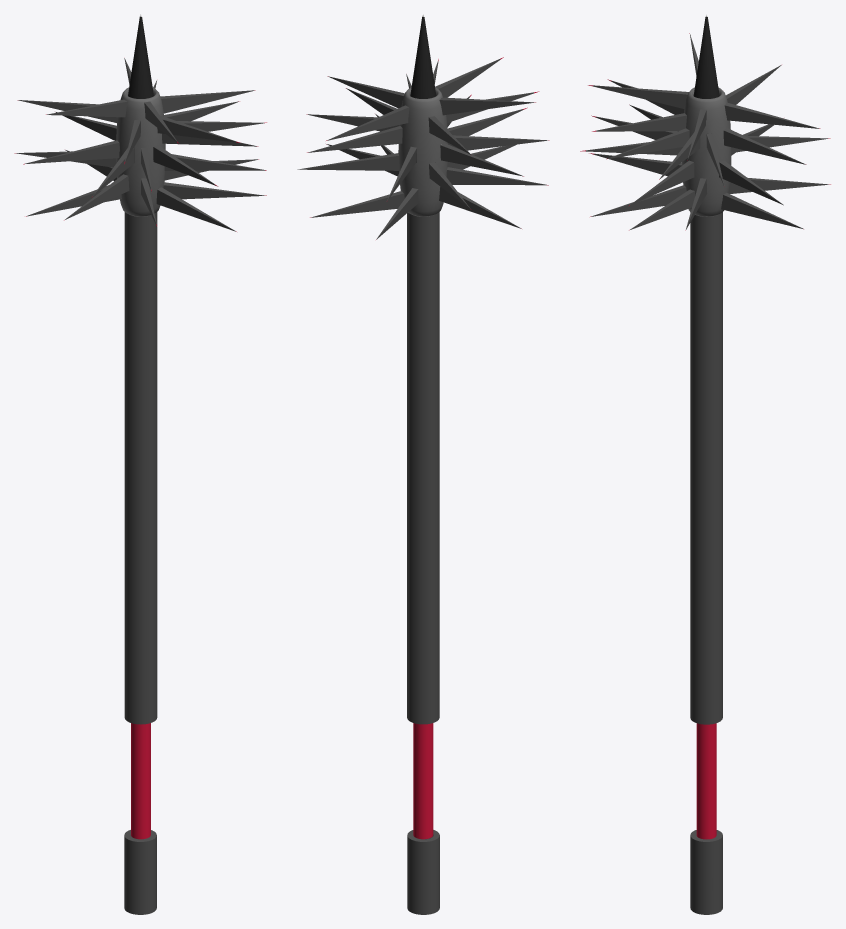
3 views of the same model, side by side, from view 1: azimuth 30°, elevation 25°; view 2: azimuth 150°, elevation 25°; view 3: azimuth 270°, elevation 25° (orthographic).
Visible parts, largest first — view 1: Component#4_001, Component#2_010, Component#2_002, Component#2_011, Component#2_013, Component#2_012, Component#2_009, Component#2_007, Component#3_002, Component#3_003, Component#2_008, Component#2_017 (+4 smaller); view 2: Component#4_001, Component#2_009, Component#2_001, Component#2_012, Component#2_020, Component#2_006, Component#2_010, Component#2_005, Component#2_017, Component#2_002, Component#3_004, Component#3_006 (+1 smaller); view 3: Component#4_001, Component#3_006, Component#3_002, Component#2_006, Component#2_001, Component#2_020, Component#2_013, Component#2_008, Component#2_007, Component#2_018, Component#3_005, Component#2_011 (+1 smaller).
Boxes of the visible parts, left/top/right/bottom form: Component#4_001: left=116, top=14, right=165, bottom=914; Component#2_010: left=23, top=140, right=119, bottom=164; Component#2_002: left=160, top=90, right=255, bottom=113; Component#2_011: left=163, top=182, right=266, bottom=199; Component#2_013: left=156, top=187, right=236, bottom=231; Component#2_012: left=46, top=99, right=127, bottom=117; Component#2_009: left=64, top=174, right=129, bottom=220; Component#2_007: left=164, top=154, right=266, bottom=170; Component#3_002: left=157, top=115, right=240, bottom=142; Component#3_003: left=153, top=145, right=218, bottom=186; Component#2_008: left=162, top=133, right=258, bottom=146; Component#2_017: left=26, top=185, right=121, bottom=216; Component#4_001: left=297, top=14, right=447, bottom=914; Component#2_009: left=446, top=167, right=548, bottom=185; Component#2_001: left=307, top=126, right=402, bottom=152; Component#2_012: left=439, top=97, right=535, bottom=115; Component#2_020: left=310, top=191, right=404, bottom=217; Component#2_006: left=326, top=105, right=409, bottom=140; Component#2_010: left=440, top=143, right=523, bottom=176; Component#2_005: left=448, top=135, right=549, bottom=150; Component#2_017: left=439, top=187, right=521, bottom=228; Component#2_002: left=327, top=76, right=404, bottom=108; Component#3_004: left=447, top=107, right=527, bottom=135; Component#3_006: left=435, top=57, right=503, bottom=97; Component#4_001: left=682, top=14, right=783, bottom=914; Component#3_006: left=588, top=85, right=688, bottom=108; Component#3_002: left=592, top=113, right=686, bottom=131; Component#2_006: left=724, top=102, right=820, bottom=128; Component#2_001: left=723, top=128, right=806, bottom=164; Component#2_020: left=721, top=193, right=803, bottom=229; Component#2_013: left=590, top=185, right=686, bottom=216; Component#2_008: left=606, top=128, right=689, bottom=159; Component#2_007: left=629, top=160, right=694, bottom=205; Component#2_018: left=729, top=177, right=830, bottom=193; Component#3_005: left=589, top=153, right=681, bottom=176; Component#2_011: left=629, top=189, right=694, bottom=230.
Size of the model in its own units: 479 by 1867 by 477.
